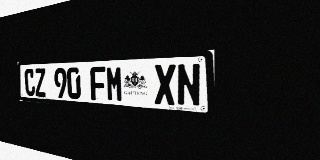0: (67, 67, 81, 99)
9: (54, 68, 67, 98)
C: (24, 69, 35, 96)
F: (90, 66, 106, 101)
M: (106, 66, 123, 102)
N: (176, 63, 201, 107)
X: (154, 64, 176, 106)
Z: (34, 68, 46, 97)
